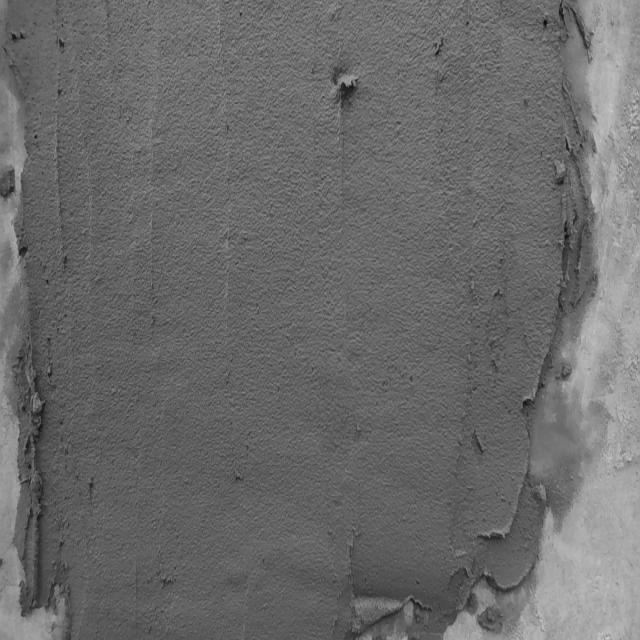trowels marks: (24, 353, 46, 628)
